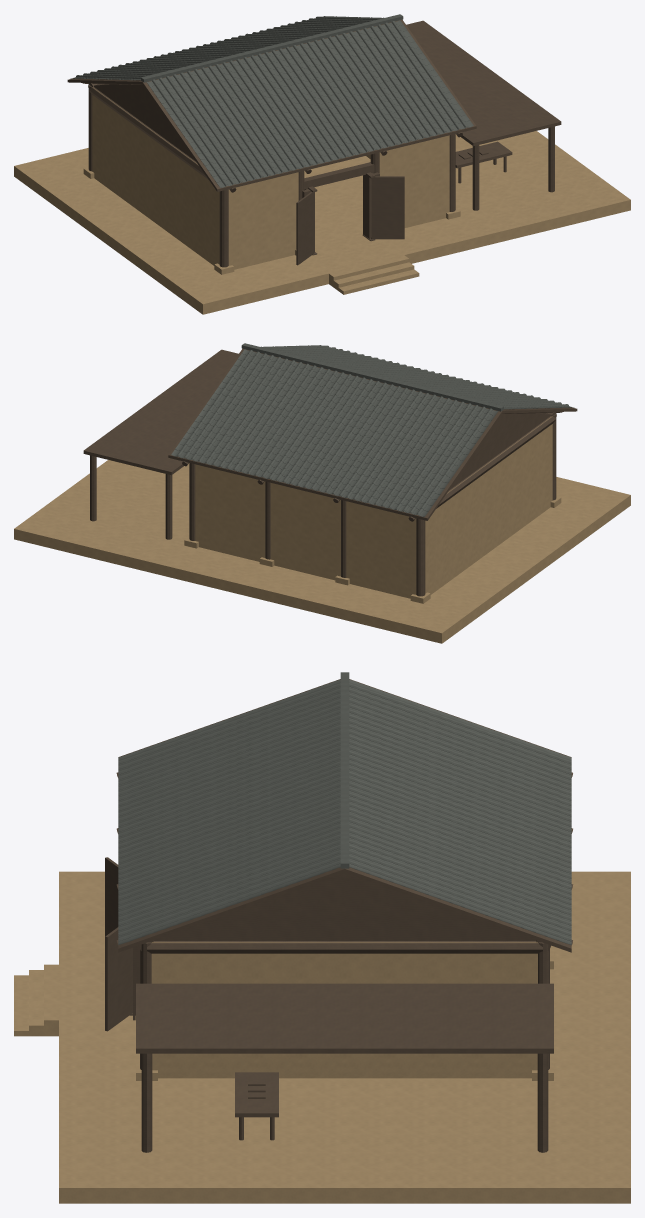
File: wuku-B-LOD0.glb
3 views of the same model, one above another, from view 1: azimuth 30°, elevation 25°; view 2: azimuth 150°, elevation 25°; view 3: azimuth 270°, elevation 25° (orthographic). The views are drawn at different scales.
Parts seen in each view (by area): view 1: wuku-B-static_earth, wuku-B-static_tile, wuku-B-static_timber; view 2: wuku-B-static_earth, wuku-B-static_tile, wuku-B-static_timber; view 3: wuku-B-static_earth, wuku-B-static_tile, wuku-B-static_timber.
Boxes of the visible parts, x1,y1,x2,y2 form: wuku-B-static_earth: [14, 87, 630, 314]; wuku-B-static_tile: [70, 14, 473, 187]; wuku-B-static_timber: [67, 19, 561, 267]; wuku-B-static_earth: [14, 416, 630, 643]; wuku-B-static_tile: [171, 343, 574, 516]; wuku-B-static_timber: [83, 348, 577, 596]; wuku-B-static_earth: [14, 871, 630, 1203]; wuku-B-static_tile: [118, 672, 571, 944]; wuku-B-static_timber: [105, 679, 573, 1152].
Bounding box in the file's own units: 17 × 6.03 × 14.02.
Materials: 3 (3 with a texture image).
